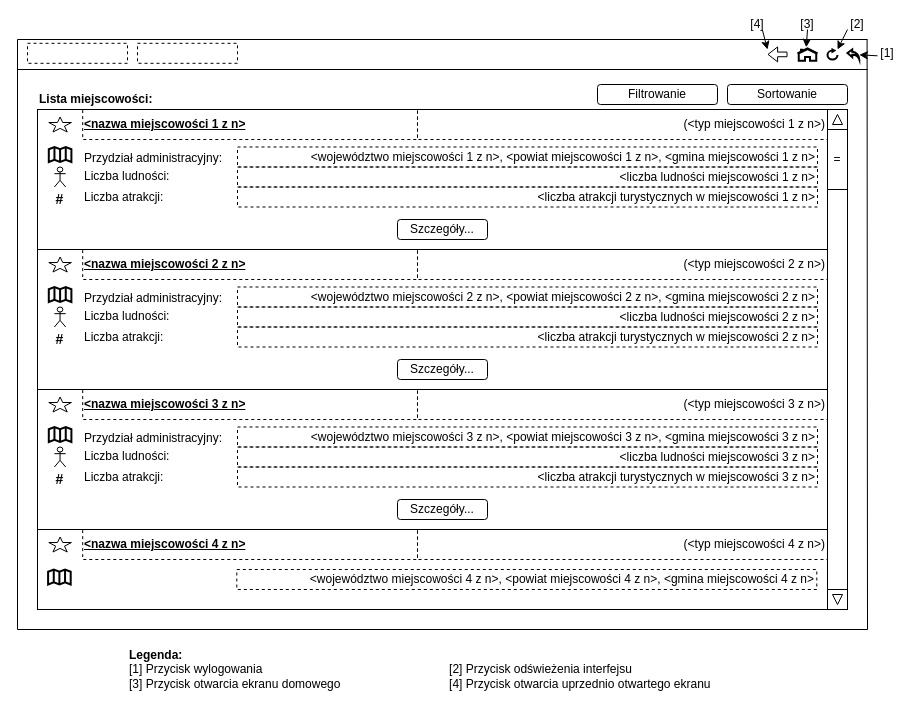
Some shapes in this 915 by 716 pixel diagram are drawn without their labels. The shapes that lost their labels are listed below. From the top down, each one's centre as x and y in pixels, then its label:
At [77,52]: "login".
At [187,52]: "rola".
